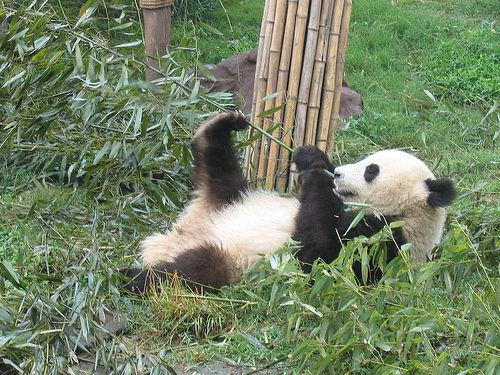panda: (135, 110, 461, 286)
